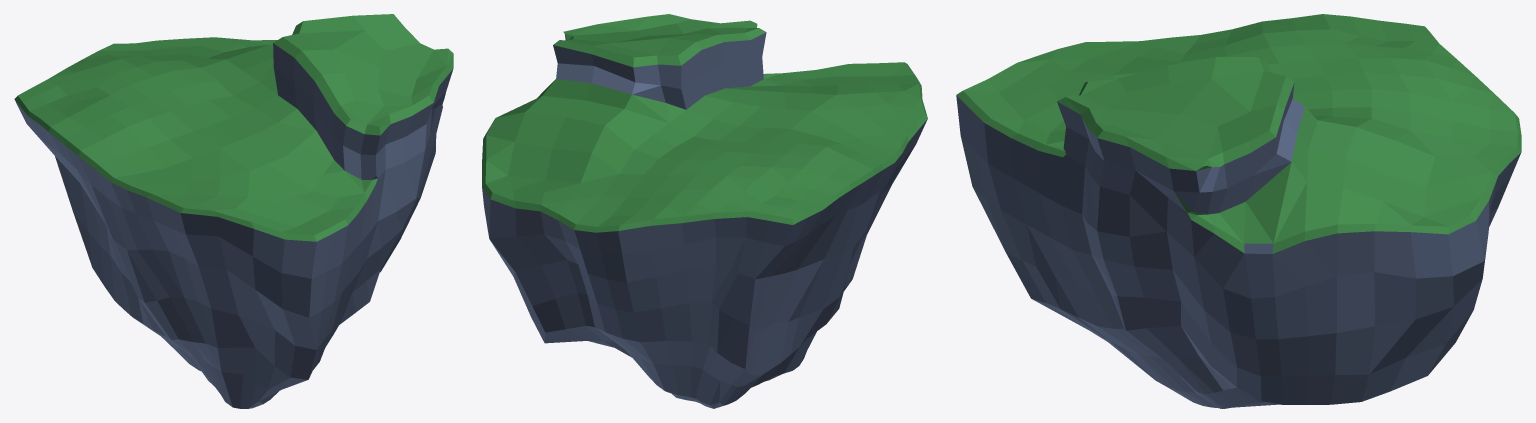
The model's file is Island01.fbx.
3 views of the same model, side by side, from view 1: azimuth 30°, elevation 25°; view 2: azimuth 150°, elevation 25°; view 3: azimuth 270°, elevation 25° (orthographic). The views are drawn at different scales.
Parts seen in each view (by area): view 1: Island01; view 2: Island01; view 3: Island01.
Part boxes in pixels (bbox=[...]): Island01: bbox=[14, 14, 453, 408]; Island01: bbox=[482, 14, 927, 408]; Island01: bbox=[956, 14, 1521, 408].
Bounding box in the file's own units: 5591 × 4926 × 6742.
